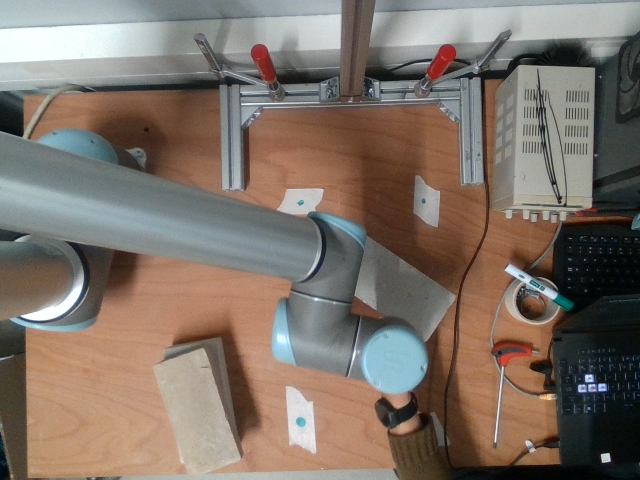brick: (153, 351, 238, 477)
